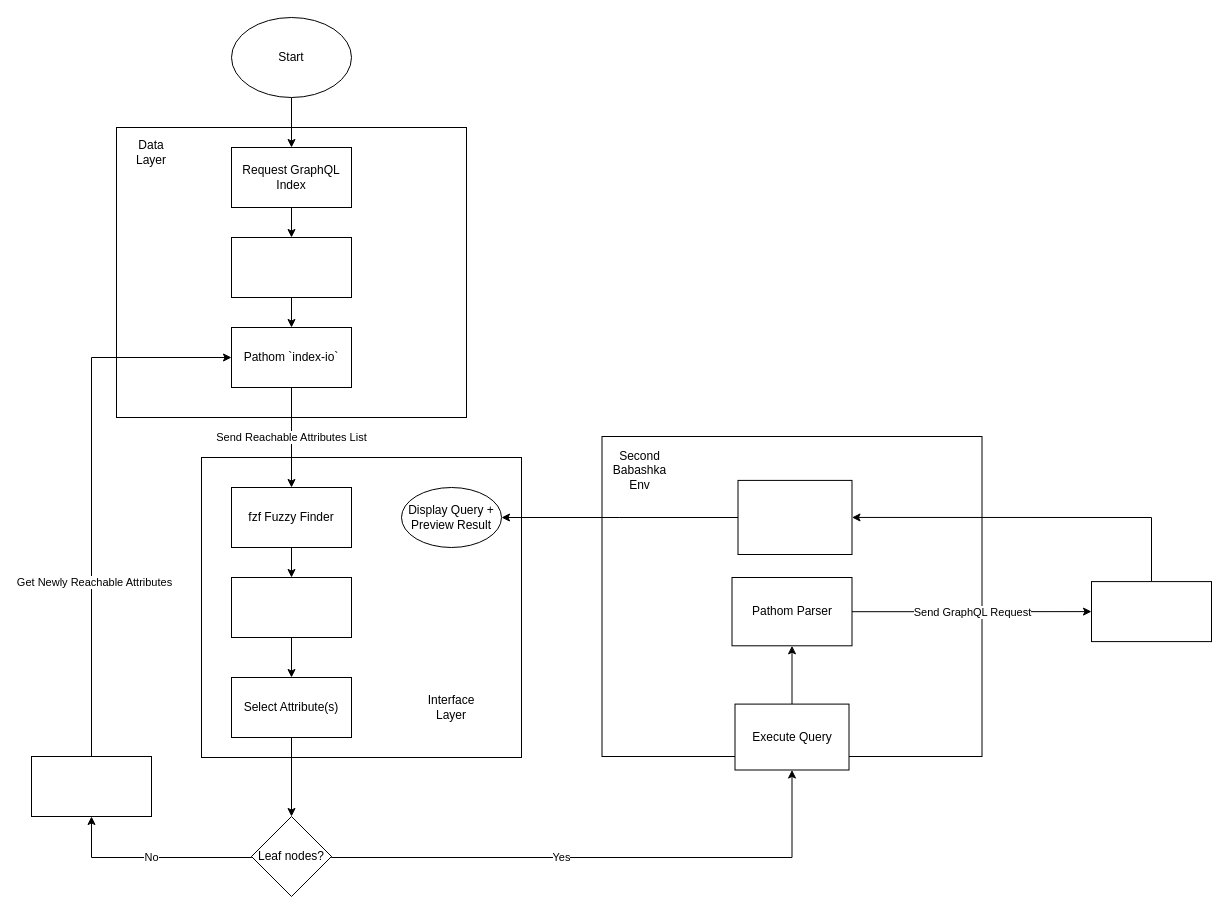
The diagram is 1230 pixels wide and 914 high, and some of its shapes have lost their labels. Here are the shapes that lost their labels. From the top down, the centre of each, then its label:
[291,267]: Pathom Env
[794,516]: Print Query + Result Preview
[291,607]: Filter Index Attrs
[1151,611]: External GraphQL Endpoint
[91,786]: Update Partial Query
